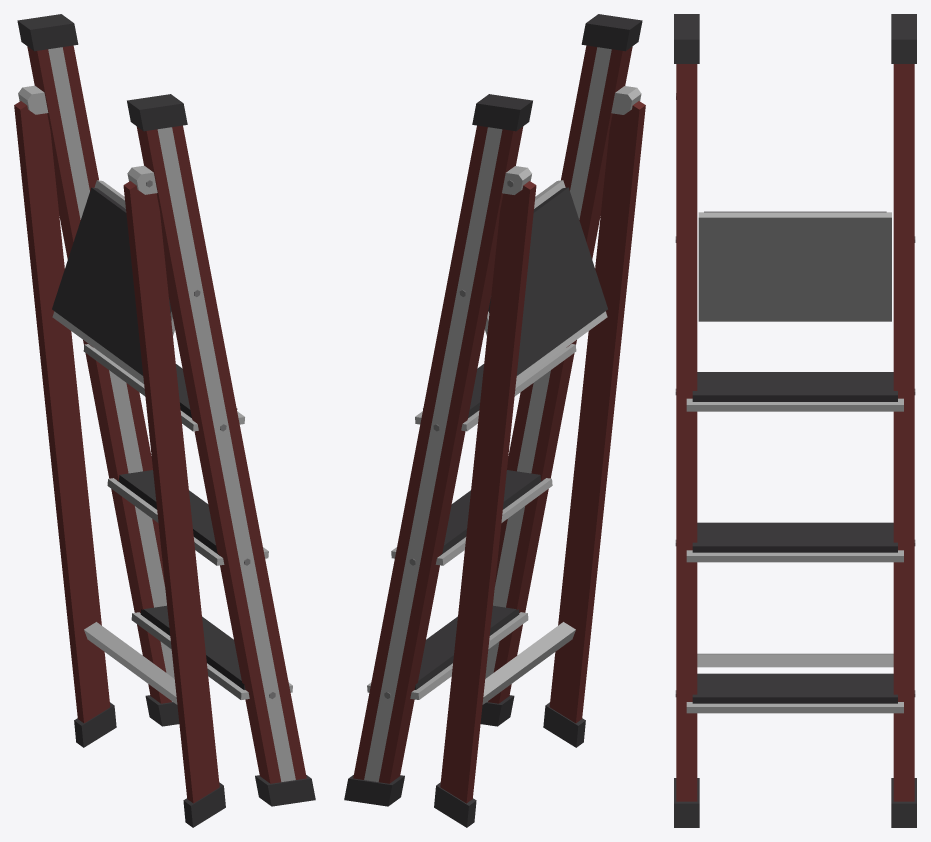
File: SM_ladder_01a.gltf
The picture shows the model from 3 angles, left to right: view 1: azimuth 30°, elevation 25°; view 2: azimuth 150°, elevation 25°; view 3: azimuth 270°, elevation 25°; orthographic projection.
Parts seen in each view (by area): view 1: SM_ladder_01a; view 2: SM_ladder_01a; view 3: SM_ladder_01a.
Boxes of the visible parts, x1=… form: SM_ladder_01a: x1=14, y1=14, x2=315, y2=827; SM_ladder_01a: x1=344, y1=14, x2=645, y2=827; SM_ladder_01a: x1=674, y1=14, x2=916, y2=827.
Size of the model in its own units: 0.6005 by 2.3 by 0.6947.
1 material, 1 textured.
